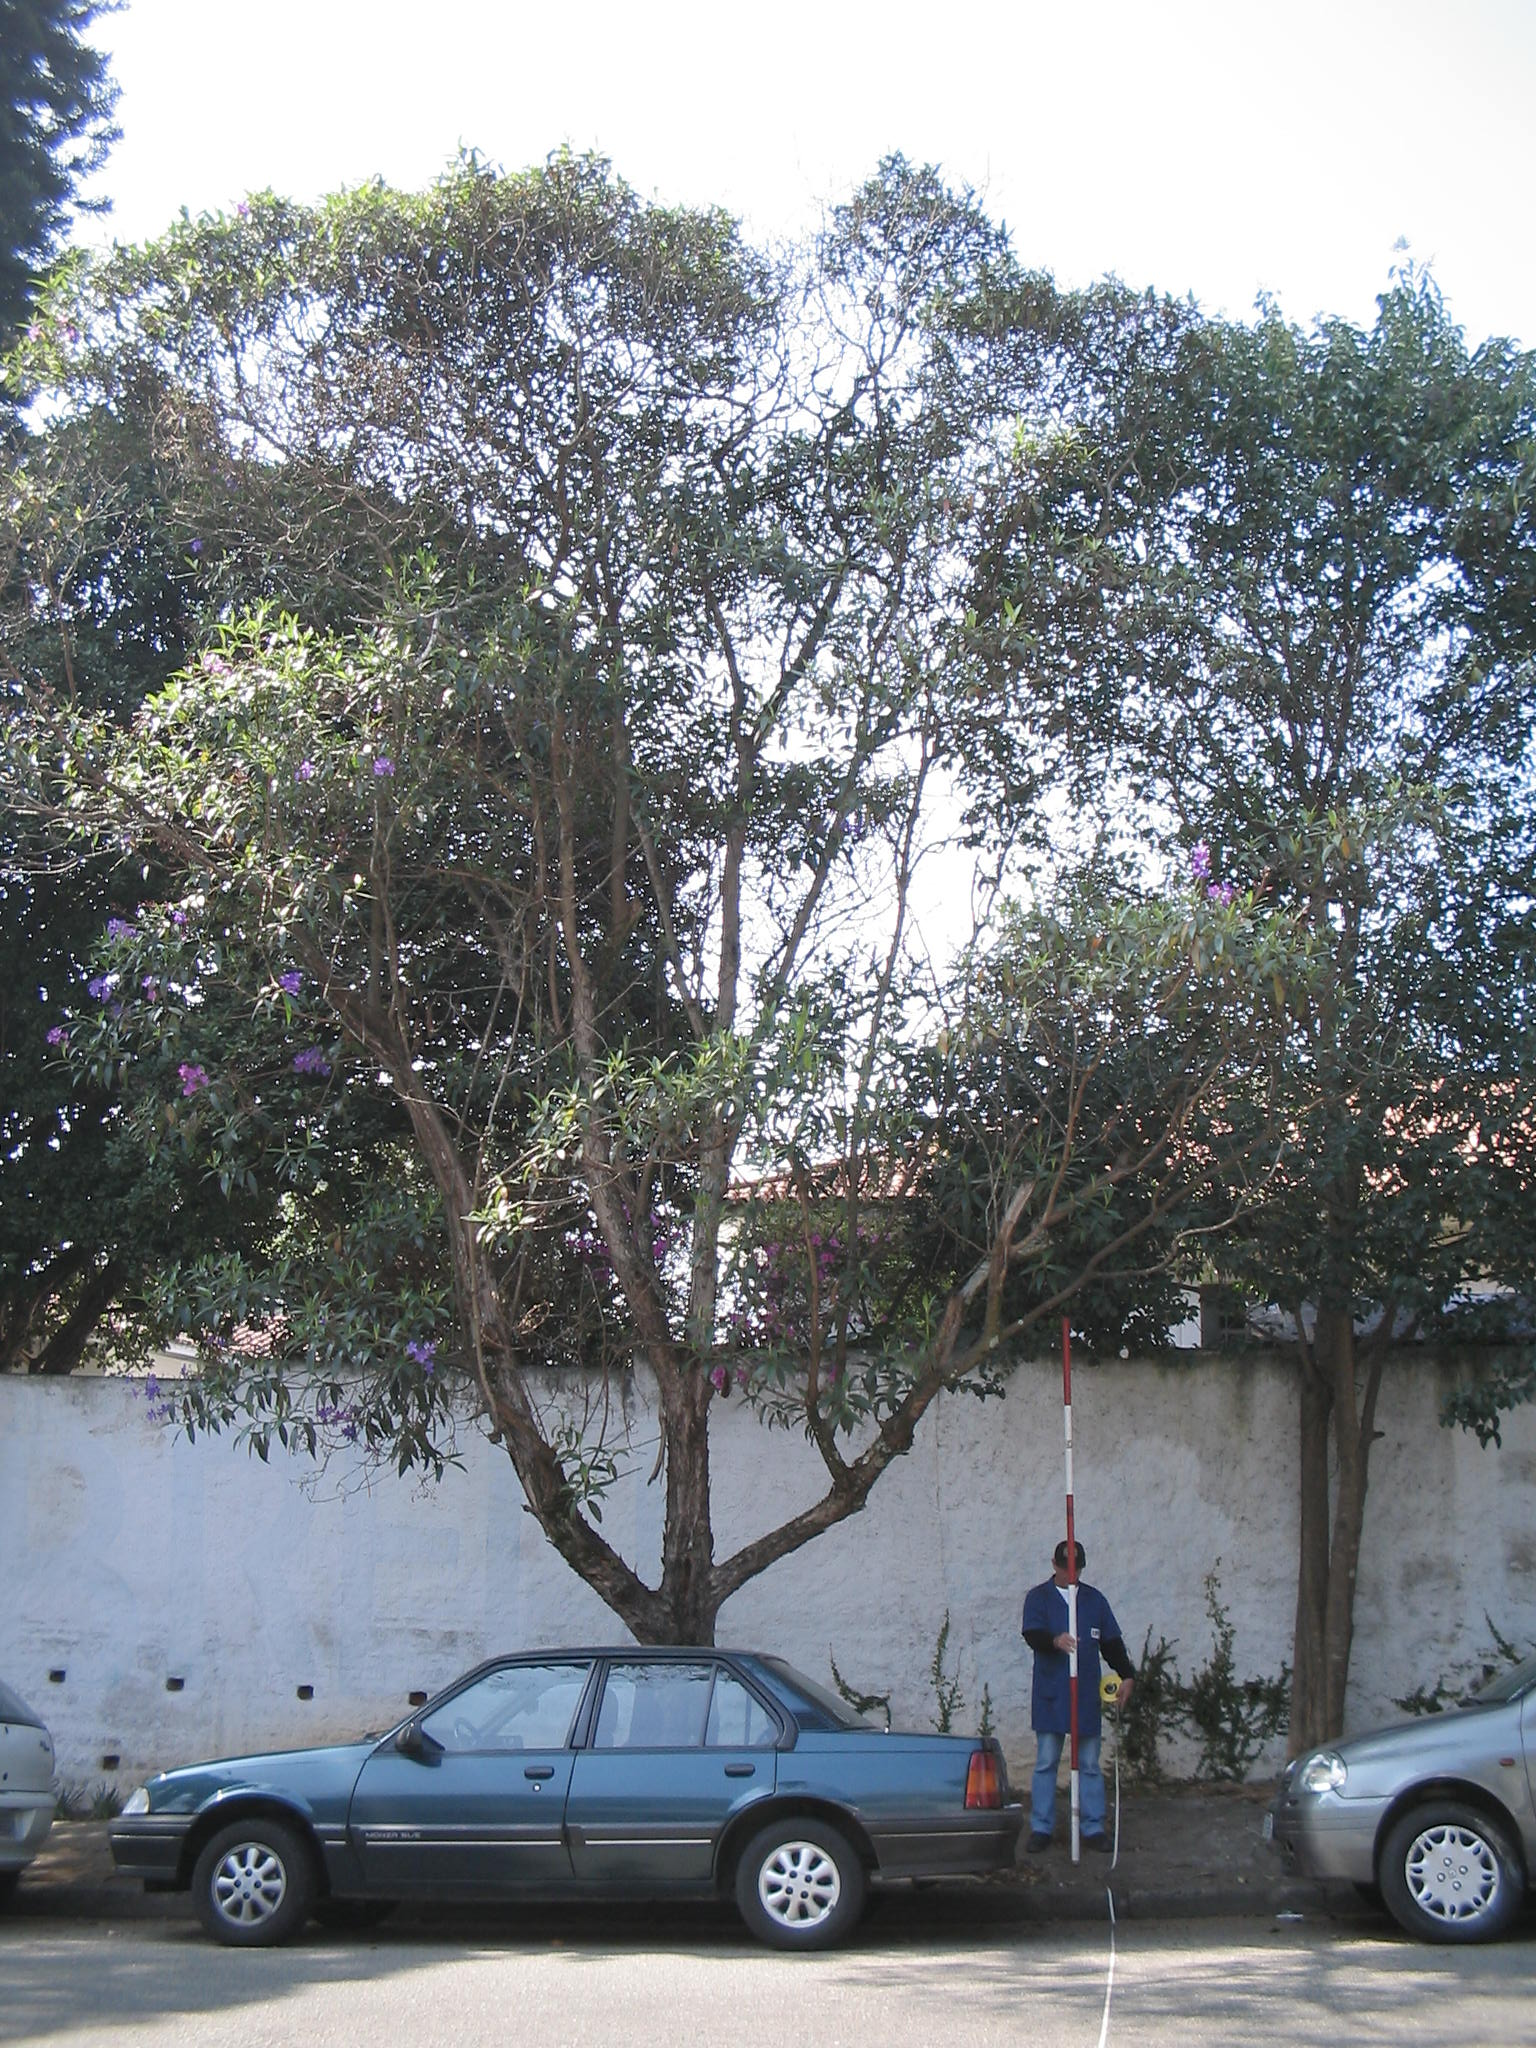crown: (27, 147, 1283, 1522), (958, 255, 1526, 1482)
stem: (603, 1622, 734, 1877), (1258, 1638, 1367, 1838)
stick: (1037, 1319, 1094, 1869)
tree: (21, 144, 1288, 1872), (949, 248, 1534, 1838)
